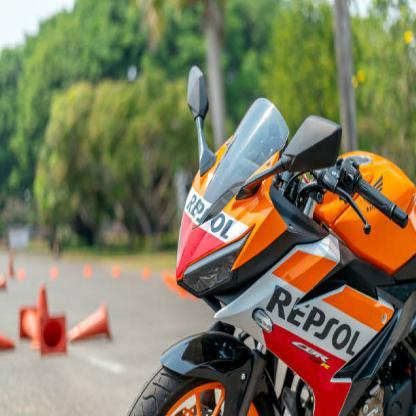Motorcycle: (126, 53, 415, 415)
